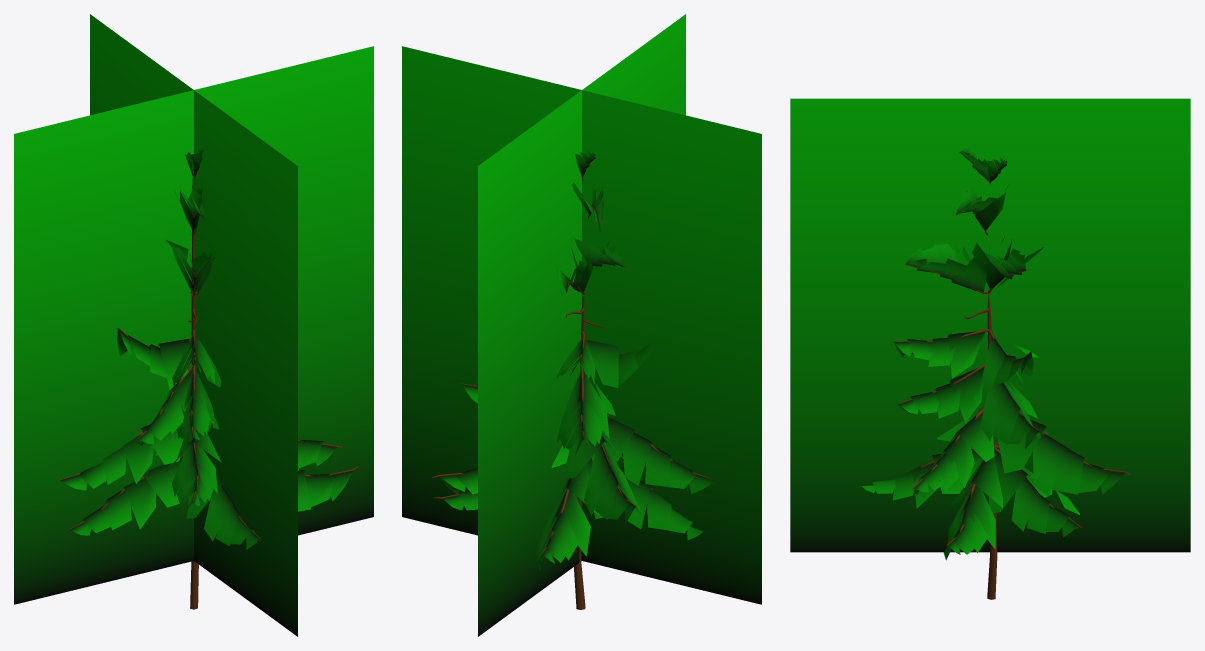
The model's file is IL3DN_Tree_Pine_01.FBX.
3 renders of one model, left to right at view 1: azimuth 30°, elevation 25°; view 2: azimuth 150°, elevation 25°; view 3: azimuth 270°, elevation 25°, orthographic. The views are drawn at different scales.
Parts seen in each view (by area): view 1: IL3DN_Tree_Pine_01_Card, IL3DN_Tree_Pine_01_Leaves, IL3DN_Tree_Pine_01_Branch_LOD0; view 2: IL3DN_Tree_Pine_01_Card, IL3DN_Tree_Pine_01_Leaves, IL3DN_Tree_Pine_01_Branch_LOD0; view 3: IL3DN_Tree_Pine_01_Card, IL3DN_Tree_Pine_01_Leaves, IL3DN_Tree_Pine_01_Branch_LOD0.
Boxes of the visible parts, x1,y1,x2,y2 form: IL3DN_Tree_Pine_01_Card: [14, 14, 373, 636]; IL3DN_Tree_Pine_01_Leaves: [60, 150, 352, 549]; IL3DN_Tree_Pine_01_Branch_LOD0: [59, 175, 358, 609]; IL3DN_Tree_Pine_01_Card: [402, 14, 761, 636]; IL3DN_Tree_Pine_01_Leaves: [439, 150, 715, 570]; IL3DN_Tree_Pine_01_Branch_LOD0: [432, 158, 716, 609]; IL3DN_Tree_Pine_01_Card: [790, 98, 1190, 552]; IL3DN_Tree_Pine_01_Leaves: [862, 147, 1124, 560]; IL3DN_Tree_Pine_01_Branch_LOD0: [894, 152, 1130, 599].
Size of what is drawn, in the model's own units: 157 by 217 by 157.
